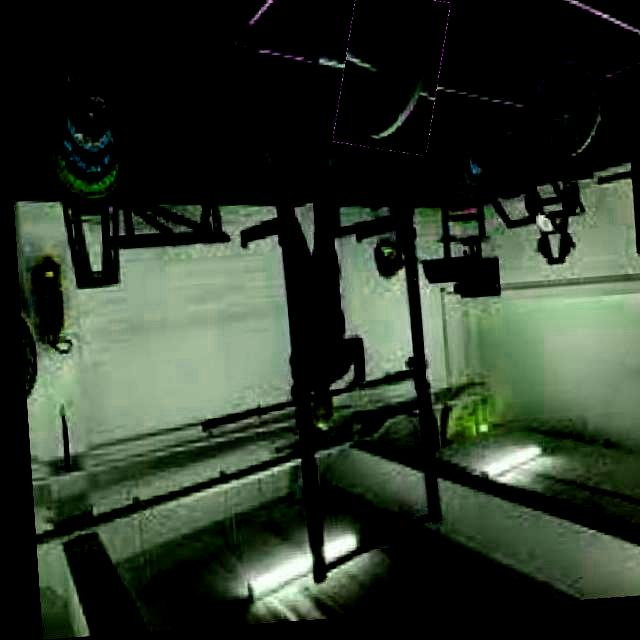barbell: (330, 1, 450, 162)
